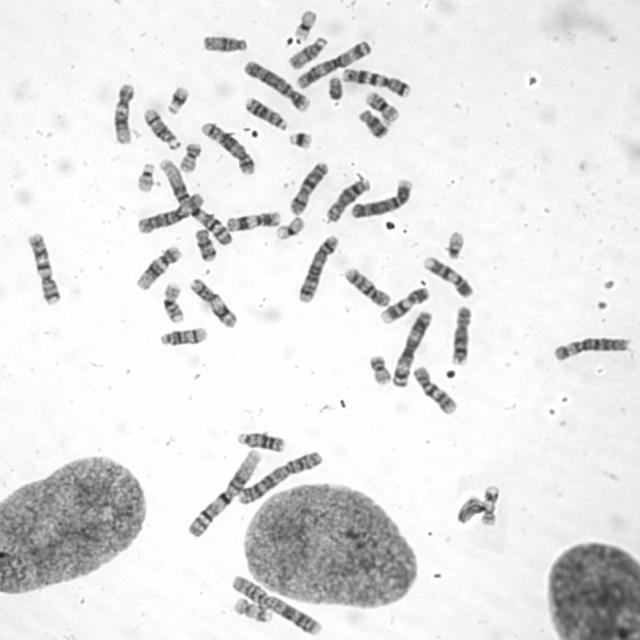A1: (183, 447, 265, 540), (157, 155, 236, 247)
A2: (228, 572, 324, 636), (234, 446, 325, 506)
A3: (293, 37, 374, 90), (388, 306, 434, 389)
B4: (240, 57, 312, 113), (348, 176, 414, 220)
B5: (198, 119, 258, 177), (294, 232, 340, 304)
C10: (410, 362, 458, 416), (340, 264, 392, 310)
C11: (187, 276, 239, 330), (224, 207, 282, 232)
C12: (132, 242, 182, 291), (109, 81, 136, 145)
C6: (134, 189, 206, 235), (550, 333, 632, 363)
C7: (25, 230, 63, 306), (339, 65, 413, 99)
C8: (322, 176, 372, 225), (447, 302, 474, 366)
C9: (420, 253, 475, 300), (377, 283, 430, 325)
D13: (242, 94, 288, 132), (234, 428, 286, 452)
D14: (140, 106, 181, 151), (156, 324, 208, 348)
D15: (286, 34, 328, 70), (199, 32, 249, 54)
E16: (362, 88, 401, 124), (159, 280, 186, 324)
E17: (231, 594, 274, 624), (478, 482, 502, 528)
E18: (355, 105, 390, 140), (192, 224, 218, 263)
F19: (273, 213, 305, 242), (292, 8, 318, 41)
F20: (367, 351, 393, 386), (176, 140, 202, 174)
G21: (164, 84, 191, 115), (286, 128, 314, 150)
G22: (443, 228, 467, 261), (132, 160, 156, 193)
X: (286, 159, 330, 216)
Y: (325, 74, 344, 100)
